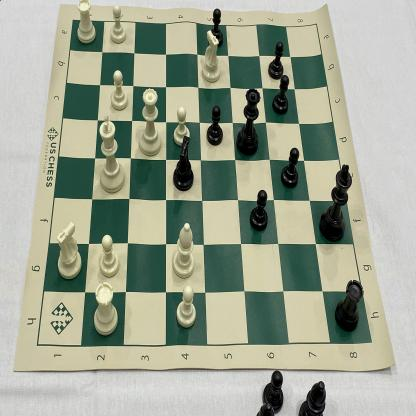black-king: (318, 158, 352, 243)
black-knight: (170, 136, 196, 192)
black-pawn: (247, 185, 272, 234), (279, 145, 300, 192), (204, 102, 225, 149), (270, 74, 292, 115), (266, 40, 285, 81), (207, 7, 226, 48)
black-queen: (234, 84, 264, 158)
black-rook: (331, 274, 365, 335)
white-bishop: (171, 222, 196, 280)
white-king: (95, 112, 127, 195)
white-knight: (53, 221, 85, 281), (200, 28, 223, 87)
white-pawn: (173, 283, 199, 331), (96, 233, 121, 280), (107, 2, 130, 46), (170, 104, 192, 148), (108, 68, 130, 112)
white-queen: (138, 84, 164, 158)
white-rook: (93, 281, 120, 338), (73, 0, 98, 46)
